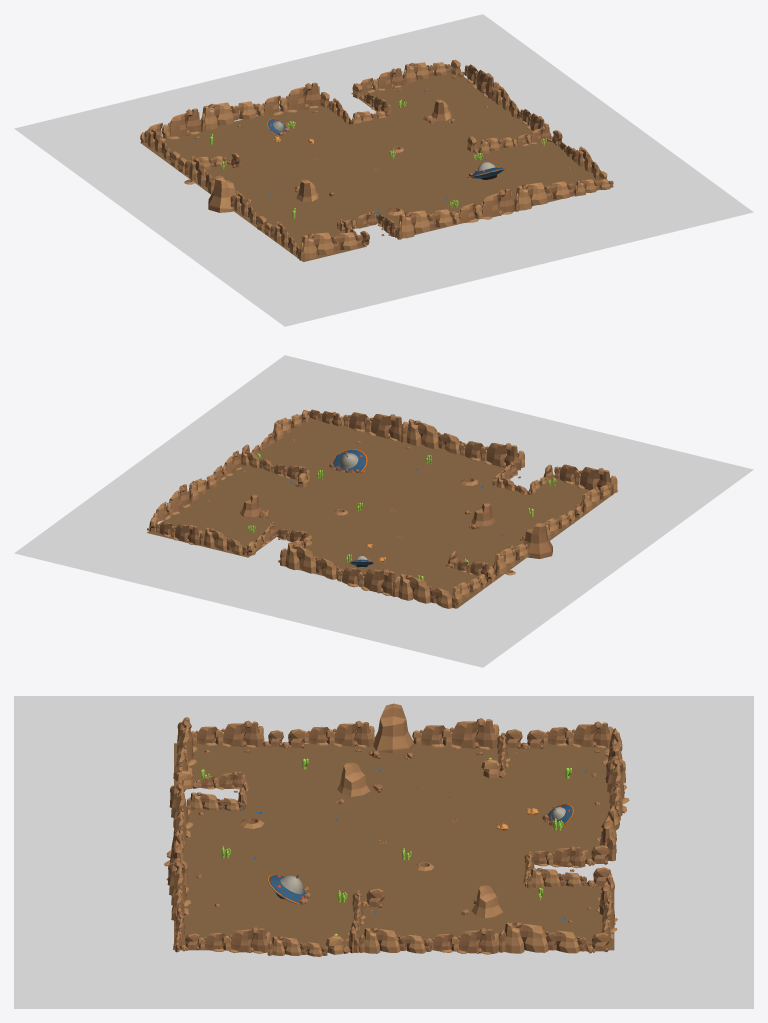
File: Env.fbx
3 views of the same model, one above another, from view 1: azimuth 30°, elevation 25°; view 2: azimuth 150°, elevation 25°; view 3: azimuth 270°, elevation 25° (orthographic). The views are drawn at different scales.
Parts seen in each view (by area): view 1: Ground, Cube.005; view 2: Ground, Cube.005, Cylinder.007_M9L_0; view 3: Ground, Cube.005, Cylinder.007_M9L_0, Cube.017, Cube.003.
Boxes of the visible parts, <box> form: Ground: <box>14,14,753,326</box>; Cube.005: <box>140,59,613,260</box>; Ground: <box>14,355,753,667</box>; Cube.005: <box>147,409,617,608</box>; Cylinder.007_M9L_0: <box>332,449,367,471</box>; Ground: <box>14,696,753,1008</box>; Cube.005: <box>164,703,629,956</box>; Cylinder.007_M9L_0: <box>267,874,305,903</box>; Cube.017: <box>337,762,370,796</box>; Cube.003: <box>471,885,503,918</box>.
Size of the model in its own units: 16384 by 1287 by 16384.
5 materials, 1 textured.
